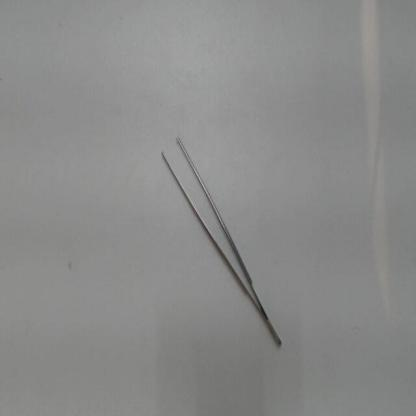Gillies Toothed Dissector: (156, 124, 290, 358)
